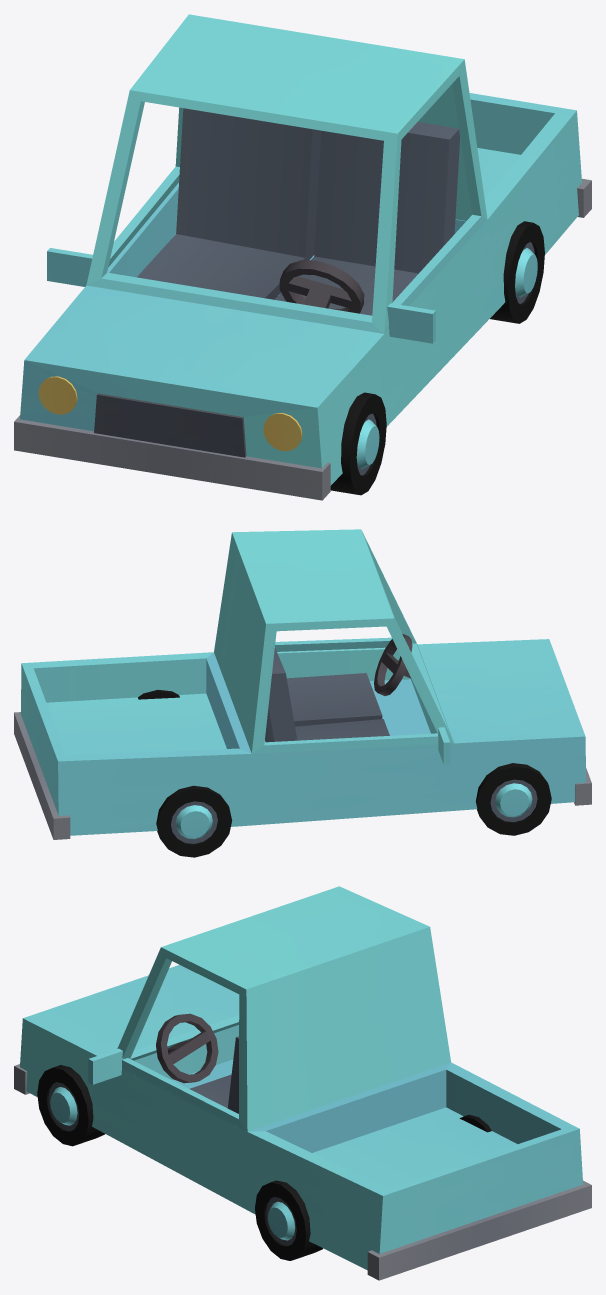
File: Car.fbx
The picture shows the model from 3 angles, top to bottom: view 1: azimuth 30°, elevation 25°; view 2: azimuth 150°, elevation 25°; view 3: azimuth 270°, elevation 25°; orthographic projection. The views are drawn at different scales.
Visible parts, largest first — view 1: Car; view 2: Car; view 3: Car.
Boxes of the visible parts, box(x1,y1,x2,y2) form: Car: box(14, 14, 591, 500); Car: box(14, 529, 591, 857); Car: box(14, 886, 591, 1280).
Size of the model in its own units: 2.47 by 1.03 by 2.28.
